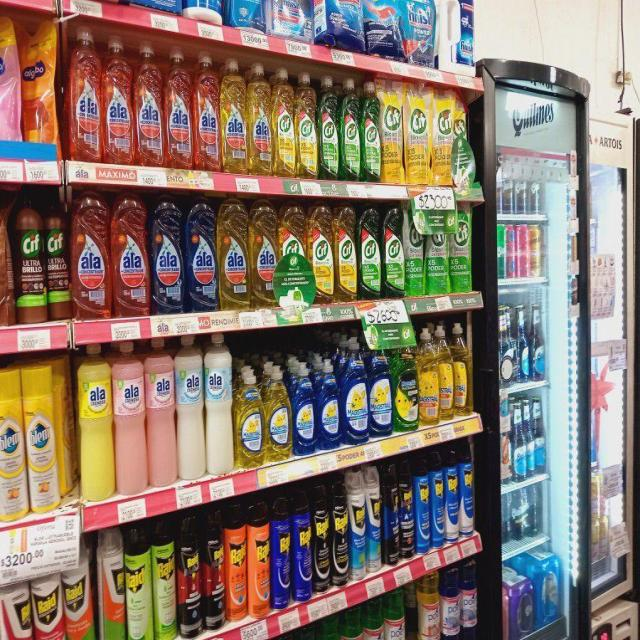ala_conc_amarillo: (218, 198, 249, 310), (220, 56, 247, 174), (250, 199, 276, 309), (248, 62, 272, 176)
ala_conc_azul: (151, 195, 184, 315), (185, 197, 218, 312)
ala_conc_rojo: (72, 186, 110, 320), (66, 24, 102, 163), (112, 190, 149, 318), (102, 33, 133, 165), (134, 40, 163, 167), (165, 46, 192, 170), (193, 50, 220, 171)
ala_crem_amarillo: (76, 342, 113, 502)
ala_crem_blanco: (205, 332, 234, 476), (177, 333, 204, 480)
ala_crem_rosado: (114, 339, 146, 495), (147, 335, 176, 487)
cif_conc_bot_amarilla: (277, 202, 309, 305), (309, 202, 334, 304), (272, 67, 295, 176), (296, 71, 318, 178), (334, 203, 357, 302)
cif_conc_botella_verde: (358, 204, 381, 300), (319, 74, 339, 180), (340, 77, 360, 181), (382, 205, 404, 298), (361, 80, 380, 182)
cif_conc_sachet_amarillo: (404, 80, 430, 184), (381, 78, 403, 183), (431, 84, 453, 185)
cif_conc_sachet_verde: (426, 201, 450, 295), (451, 200, 473, 293), (405, 203, 425, 296)
magistral_con_amarillo: (236, 367, 264, 468), (265, 363, 291, 462), (454, 321, 472, 417), (439, 323, 453, 422)
magistral_con_azul: (342, 344, 368, 445), (292, 361, 316, 455), (317, 356, 341, 449), (370, 348, 392, 438), (499, 311, 514, 385), (518, 311, 530, 382)
